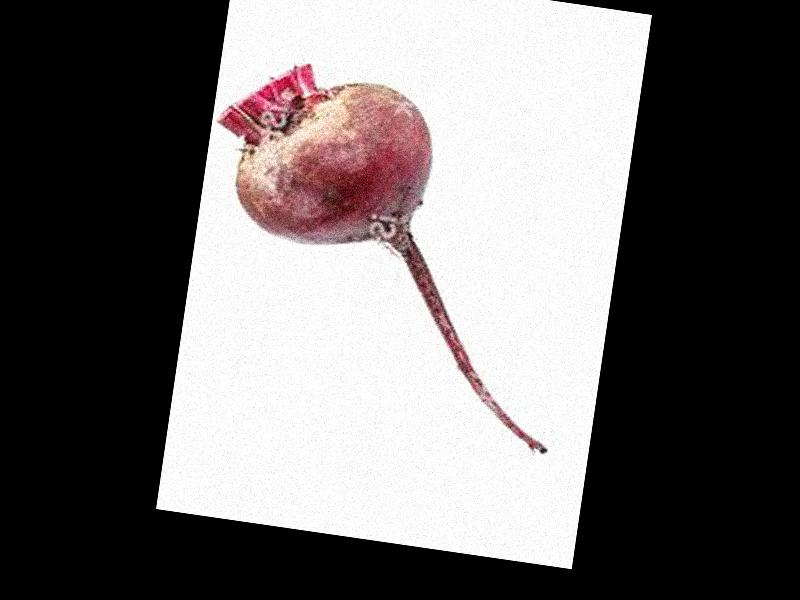Beet: (176, 54, 594, 454)
